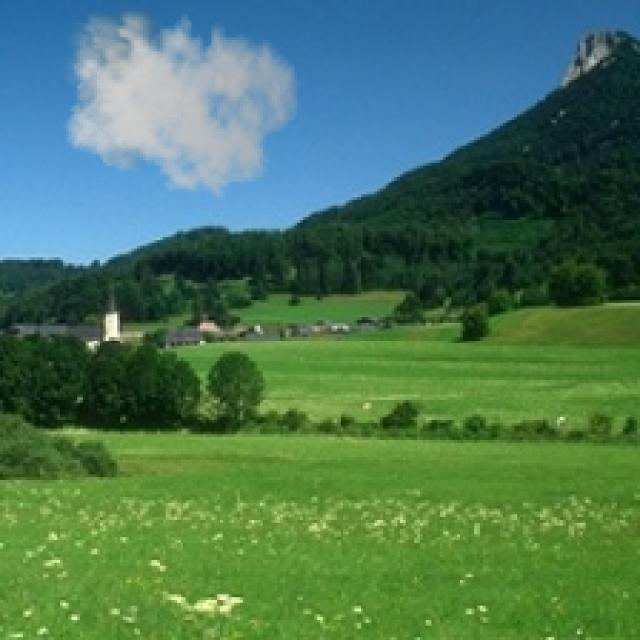Smoke: (57, 0, 300, 200)
